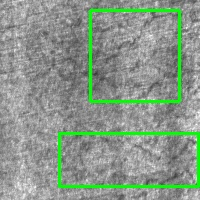crazing: (90, 10, 179, 101), (59, 133, 198, 186)
